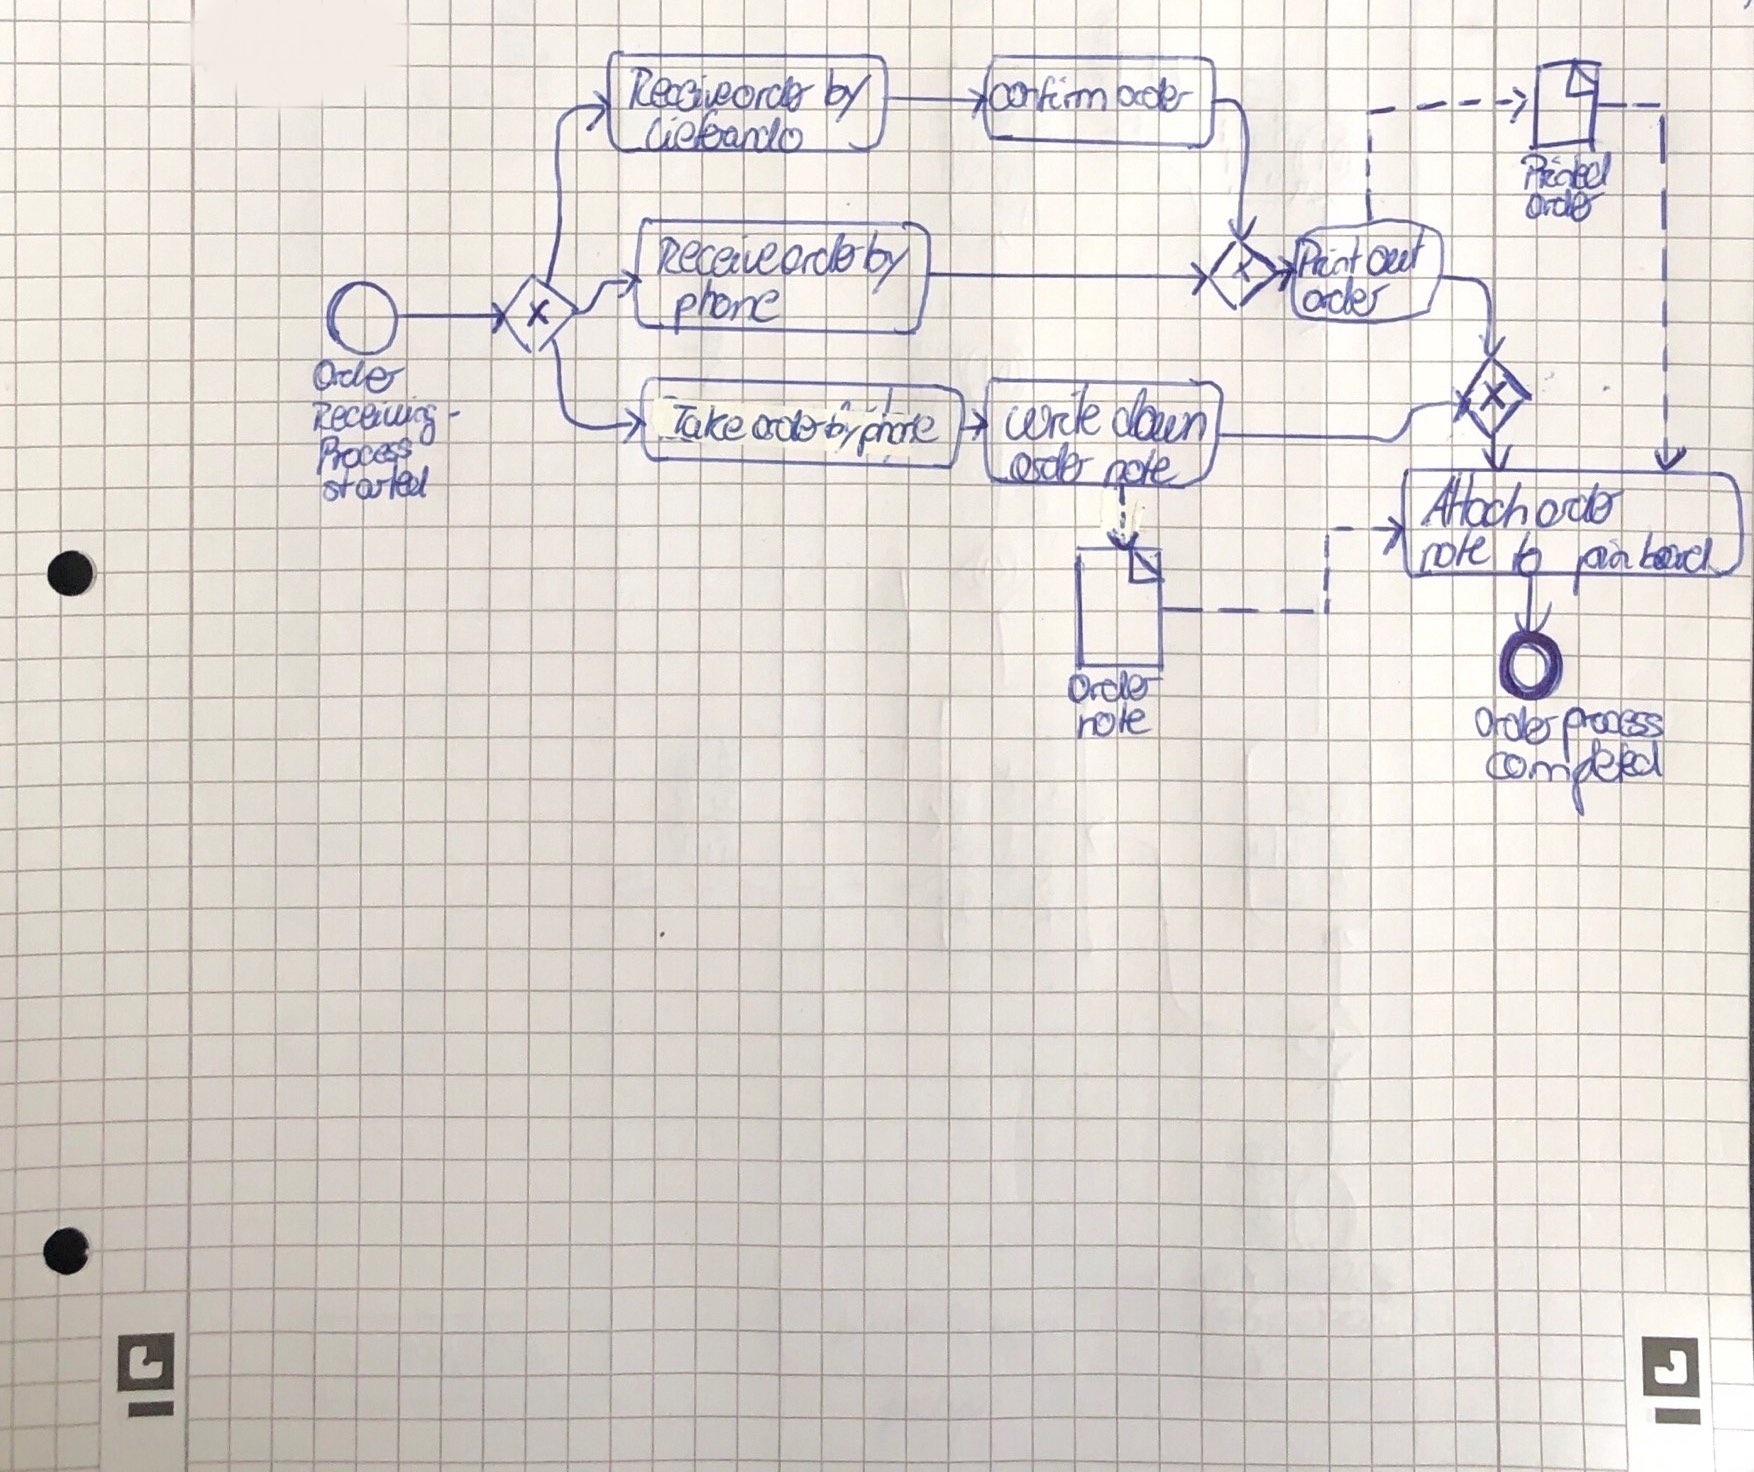Attach: (1415, 467, 1533, 530)
Lieferando: (640, 110, 806, 155)
Order: (308, 355, 407, 394), (1063, 667, 1163, 705), (1471, 705, 1557, 748)
Print: (1298, 237, 1366, 277)
Printed: (1517, 152, 1614, 191)
Process: (1557, 705, 1666, 756), (311, 432, 416, 478)
Receive: (656, 234, 778, 282), (625, 66, 735, 114)
Receiving-: (307, 397, 462, 441)
Take: (667, 402, 746, 445)
by: (857, 231, 911, 291), (819, 66, 872, 124), (824, 409, 863, 451)
completed: (1481, 737, 1666, 808)
confirm: (984, 70, 1107, 117)
down: (1107, 386, 1211, 445)
note: (1414, 530, 1496, 572), (1101, 445, 1176, 491), (1072, 705, 1148, 739)
order: (1531, 480, 1624, 529), (775, 232, 865, 277), (1111, 73, 1199, 115), (1005, 441, 1094, 482), (730, 74, 813, 114), (1520, 185, 1606, 222), (748, 406, 827, 444), (1303, 280, 1387, 315)
out: (1366, 231, 1430, 280)
phone: (667, 277, 781, 331), (854, 407, 939, 459)
pinboard: (1569, 529, 1717, 594)
started: (320, 464, 434, 504)
to: (1504, 521, 1548, 574)
write: (1000, 384, 1104, 442)
